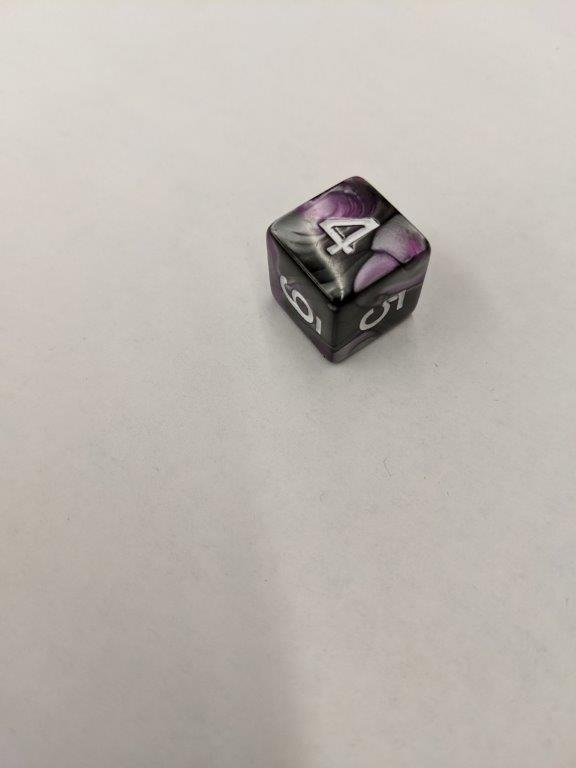d6-4: (268, 177, 432, 361)
